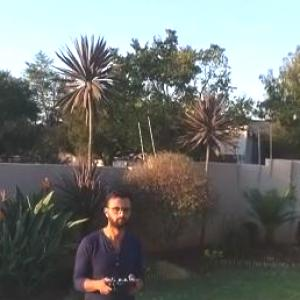follow: (69, 179, 150, 299)
